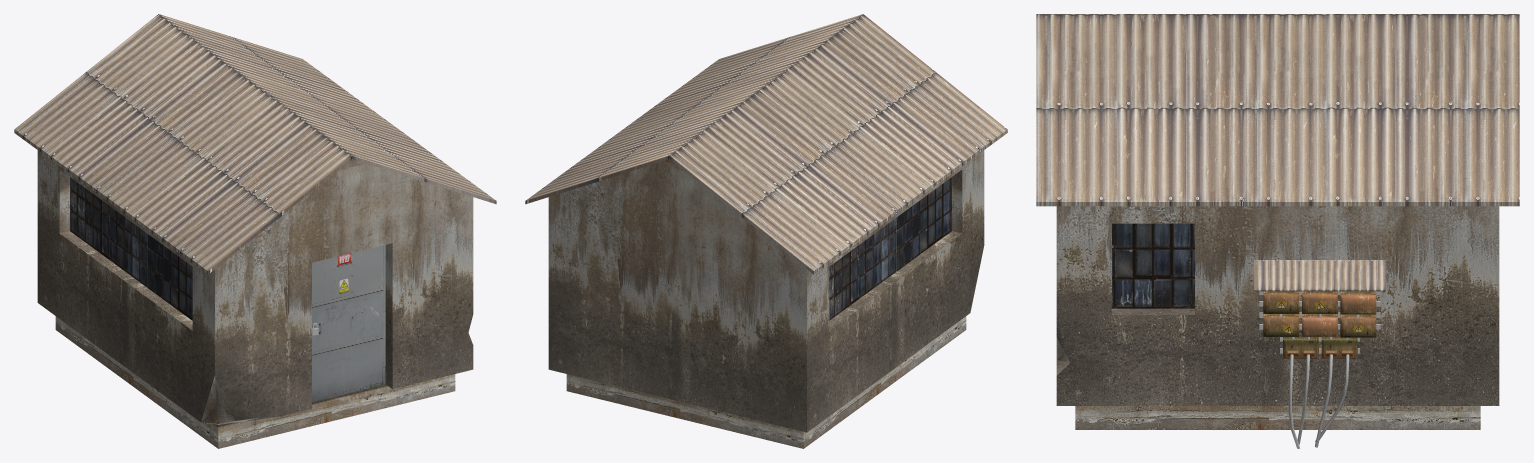
Rendered from ind4_smallhouse.fbx.
3 renders of one model, left to right at view 1: azimuth 30°, elevation 25°; view 2: azimuth 150°, elevation 25°; view 3: azimuth 270°, elevation 25°, orthographic. The views are drawn at different scales.
Visible parts, largest first — view 1: Mesh Object; view 2: Mesh Object; view 3: Mesh Object.
Boxes of the visible parts, <box> form: Mesh Object: <box>14,14,496,448</box>; Mesh Object: <box>525,14,1007,448</box>; Mesh Object: <box>1036,14,1519,448</box>.
Size of the model in its own units: 6.66 by 5.94 by 7.49.
